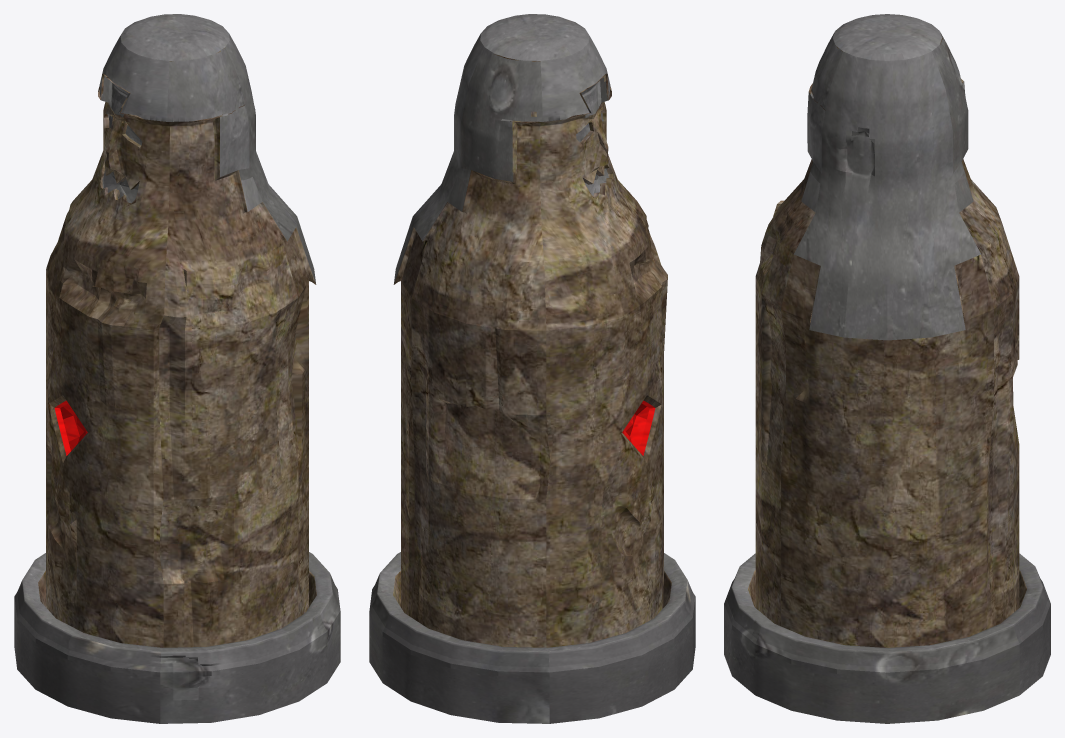
The model's file is estatua.fbx.
3 views of the same model, side by side, from view 1: azimuth 30°, elevation 25°; view 2: azimuth 150°, elevation 25°; view 3: azimuth 270°, elevation 25° (orthographic).
Visible parts, largest first — view 1: pCylinder11; view 2: pCylinder11; view 3: pCylinder11.
Boxes of the visible parts, <box> form: pCylinder11: <box>14,14,340,723</box>; pCylinder11: <box>369,14,695,723</box>; pCylinder11: <box>724,14,1050,723</box>.
Bounding box in the file's own units: 2.48 × 5.22 × 2.48.
3 materials, 3 textured.
